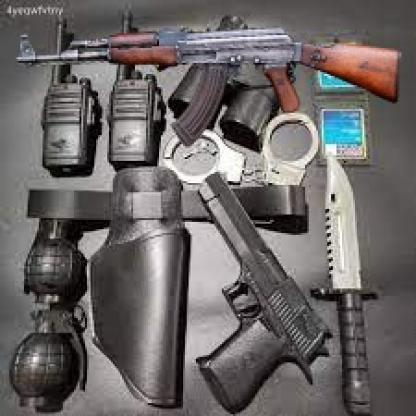Grenade: (9, 308, 88, 409), (22, 211, 84, 307)
Gun: (16, 25, 402, 146)
Knife: (312, 148, 380, 416)
Pistol: (197, 169, 333, 416)
